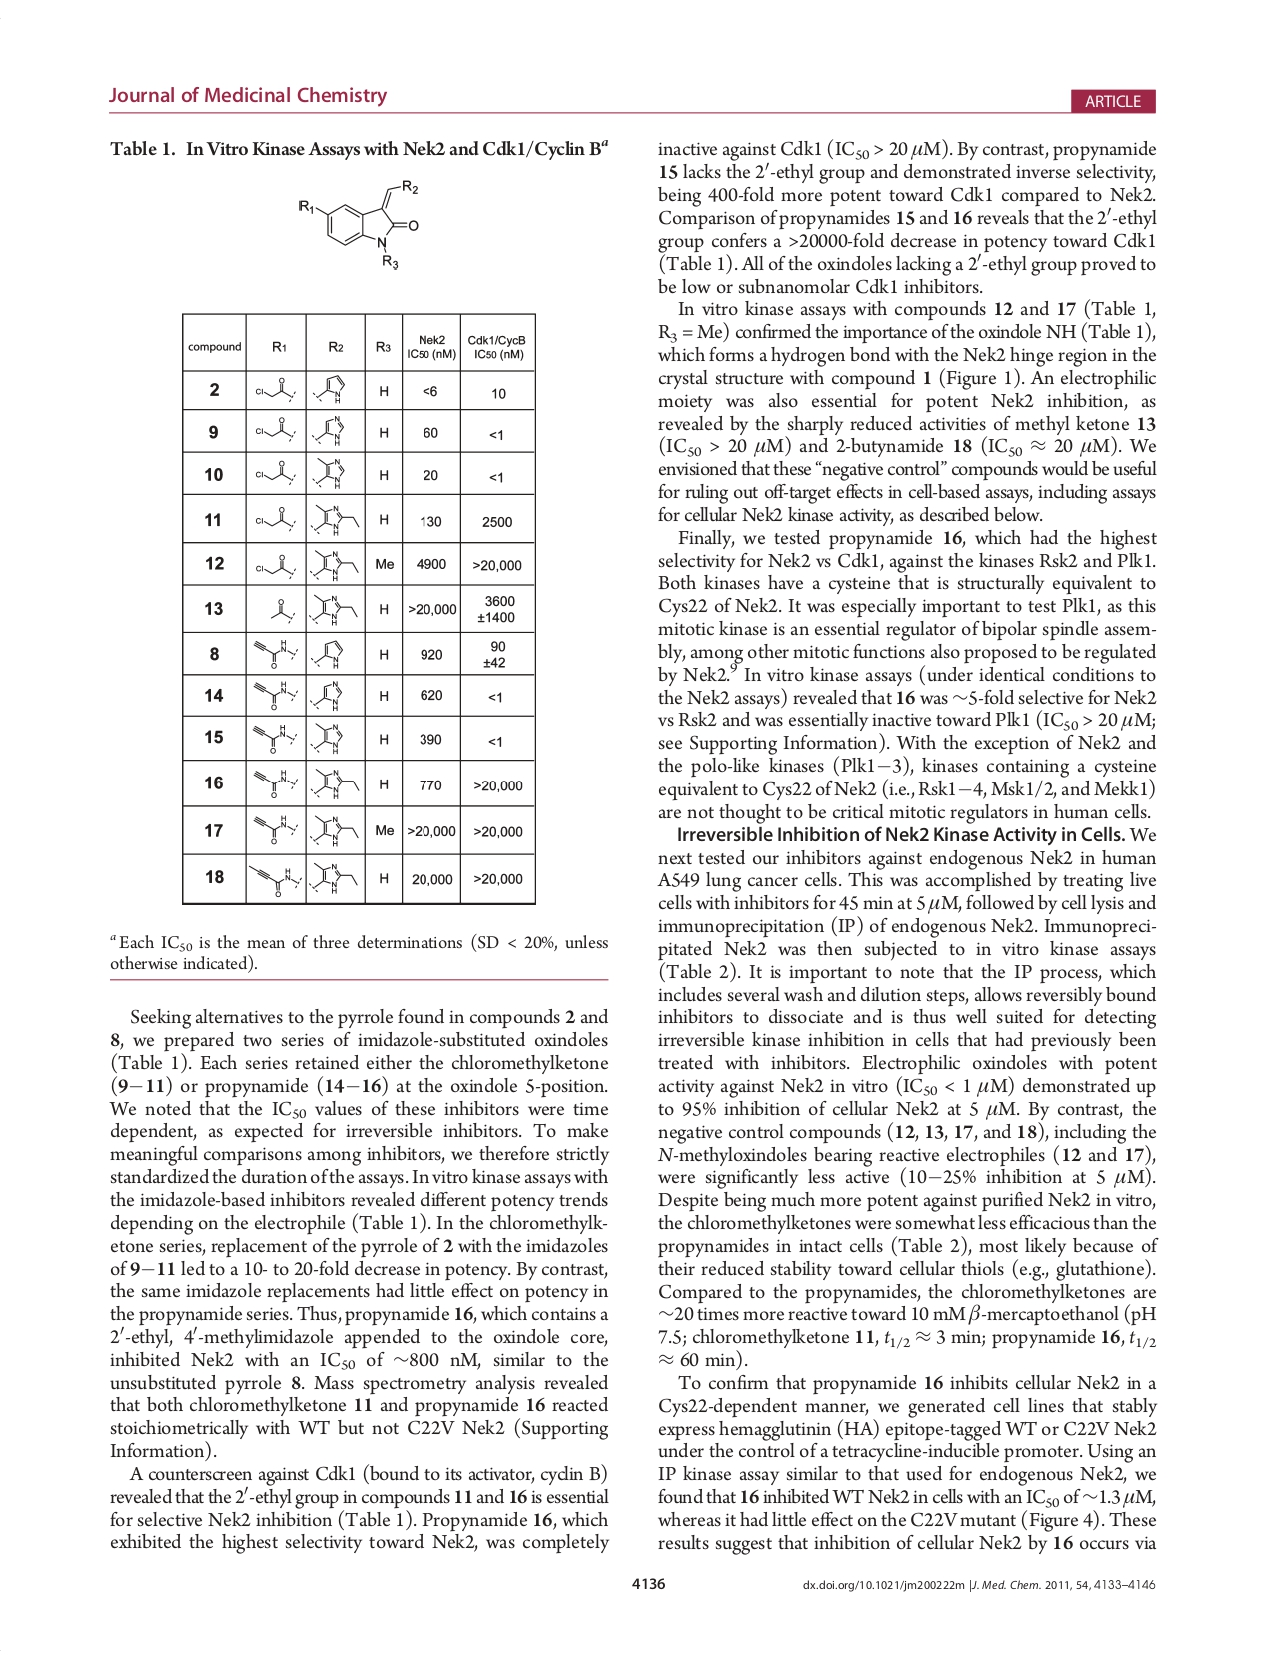exist_molecular: (298, 178, 422, 273), (247, 860, 305, 898), (309, 811, 360, 848), (309, 501, 360, 537), (309, 548, 360, 582), (309, 766, 360, 801), (307, 592, 358, 626), (251, 636, 301, 670), (309, 859, 358, 894), (251, 813, 301, 847), (251, 678, 301, 711), (251, 767, 301, 799), (251, 723, 299, 755), (253, 504, 301, 535), (310, 455, 347, 491), (253, 414, 301, 442), (309, 719, 344, 755), (254, 457, 298, 487), (254, 551, 298, 580), (310, 637, 346, 672), (309, 678, 344, 711), (311, 372, 347, 404), (309, 414, 344, 446), (255, 376, 299, 402), (269, 594, 299, 624)
